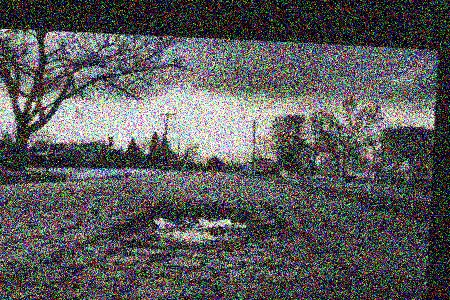pothole: (111, 198, 274, 255)
